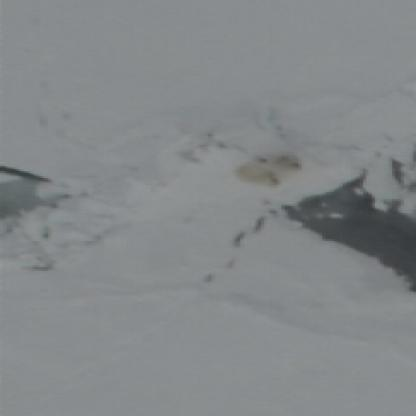polar-bear: (239, 167, 282, 187), (268, 154, 305, 175), (254, 156, 272, 168)
